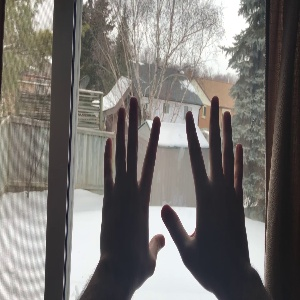hand: (161, 97, 252, 281), (101, 98, 165, 274)
